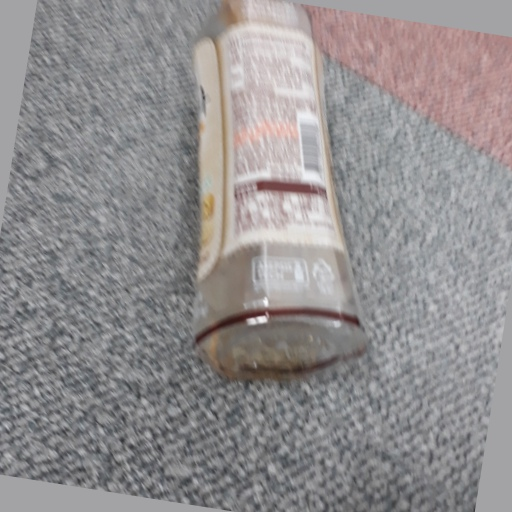Plastic_0: (189, 1, 369, 373)
